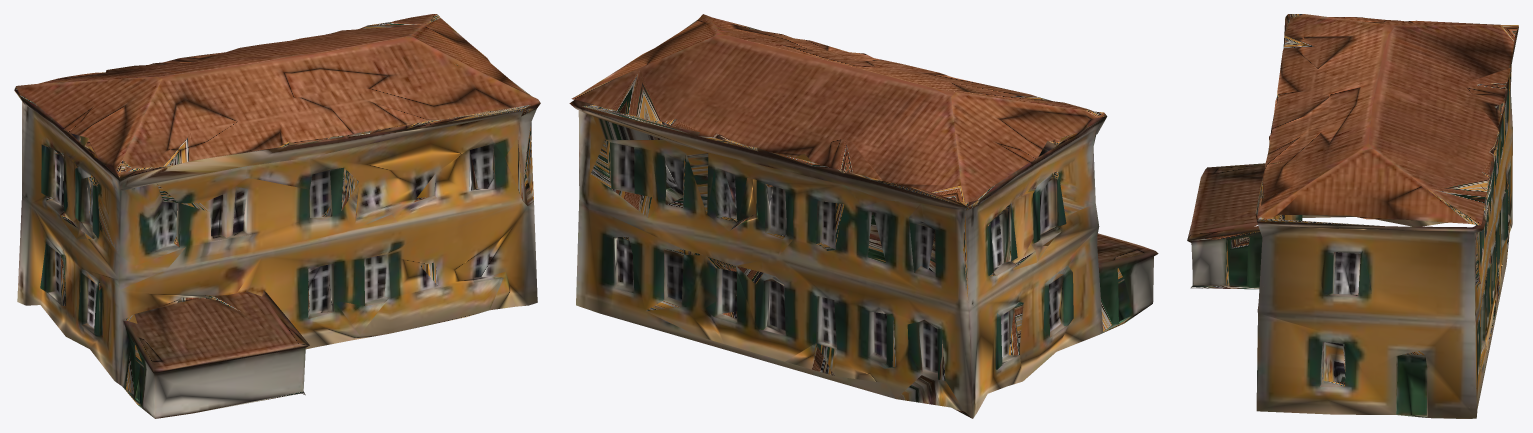
The model's file is cuneo-2022-schoolroom.lod.glb.
3 renders of one model, left to right at view 1: azimuth 30°, elevation 25°; view 2: azimuth 150°, elevation 25°; view 3: azimuth 270°, elevation 25°, orthographic. The views are drawn at different scales.
Parts seen in each view (by area): view 1: geometry_0; view 2: geometry_0; view 3: geometry_0.
Part boxes in pixels (left/top/right/bottom): geometry_0: left=14, top=14, right=540, bottom=418; geometry_0: left=569, top=14, right=1158, bottom=418; geometry_0: left=1187, top=14, right=1518, bottom=418.
Size of the model in its own units: 1.76 by 0.9983 by 1.23.
Materials: 1 (1 with a texture image).
